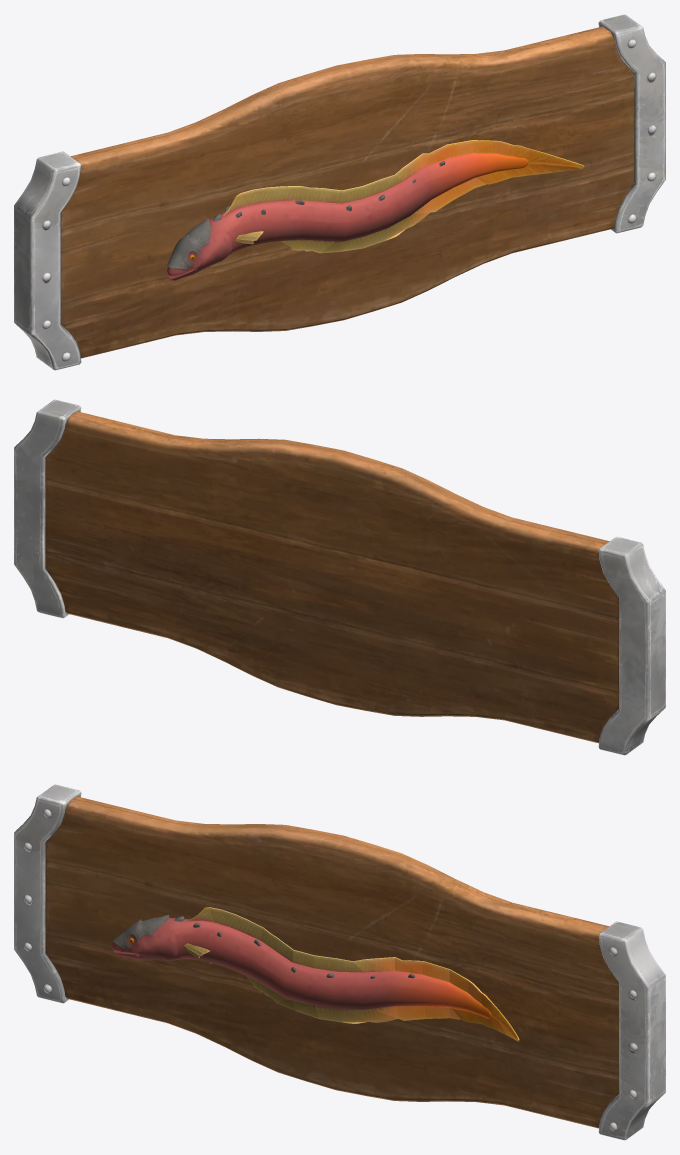
The picture shows the model from 3 angles, top to bottom: view 1: azimuth 30°, elevation 25°; view 2: azimuth 150°, elevation 25°; view 3: azimuth 330°, elevation 25°; orthographic projection.
Visible parts, largest first — view 1: SM_Trophy_Plaque_Infernal_Eel_01_LOD0; view 2: SM_Trophy_Plaque_Infernal_Eel_01_LOD0; view 3: SM_Trophy_Plaque_Infernal_Eel_01_LOD0.
Boxes of the visible parts, box(x1,y1,x2,y2) form: SM_Trophy_Plaque_Infernal_Eel_01_LOD0: box(14, 14, 665, 370); SM_Trophy_Plaque_Infernal_Eel_01_LOD0: box(14, 399, 665, 755); SM_Trophy_Plaque_Infernal_Eel_01_LOD0: box(14, 784, 665, 1140).
Bounding box in the file's own units: 1.48 × 0.5529 × 0.1695.
2 materials, 2 textured.
